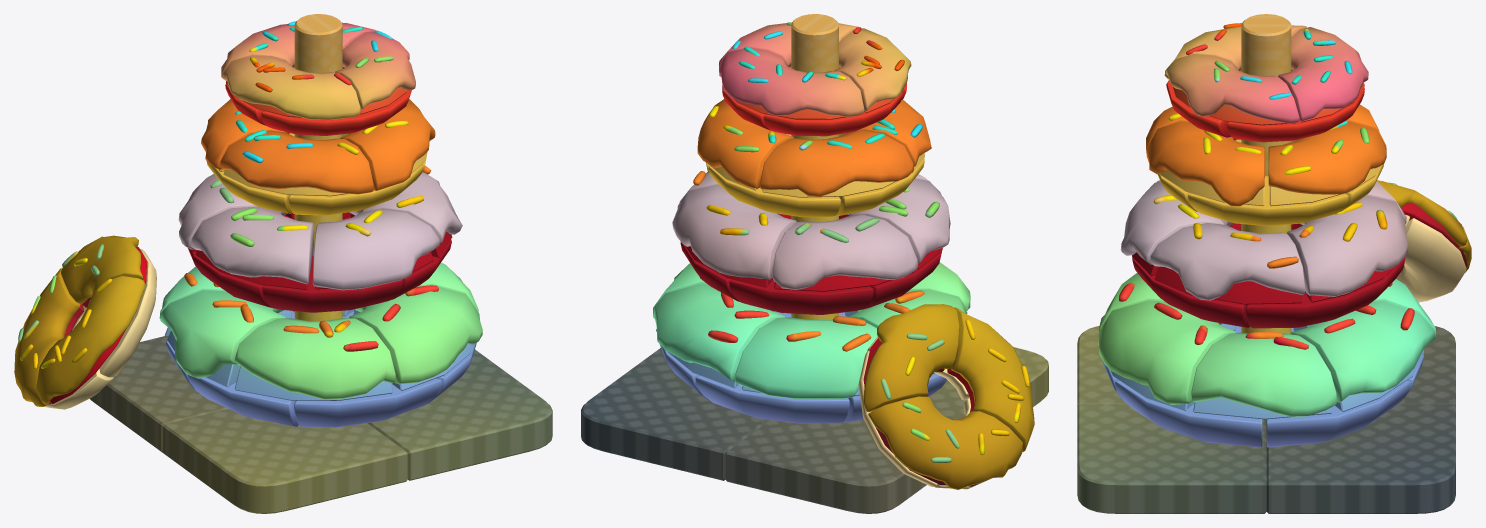
The picture shows the model from 3 angles, left to right: view 1: azimuth 30°, elevation 25°; view 2: azimuth 150°, elevation 25°; view 3: azimuth 270°, elevation 25°; orthographic projection. The views are drawn at different scales.
Parts seen in each view (by area): view 1: Cube_L5_4, Cube_L5, Cube_L3_7, Cube_L3_4, Cube_L2_4, Cube_L1_11, Cube_L2_8, Cube_L5_3, Cube_L3_11, Cube_L4_4, Cube_L1_5, Cube_L1_1 (+20 smaller); view 2: Cube_L5_1, Cube_L5_3, Cube_L3_8, Cube_L4_3, Cube_L2_7, Cube_L1_12, Cube_L2_3, Cube_L3_3, Cube_L4, Cube_L1_2, Cube_L4_4, Cube_L1_8 (+20 smaller); view 3: Cube_L5_1, Cube_L5, Cube_L3, Cube_L2, Cube_L3_4, Cube_L3_3, Cube_L2_3, Cube_L1_8, Cube_L1_7, Cube_L1_1, Cube_L1_2, Cube_L5_2 (+18 smaller).
Part boxes in pixels (x1=…): Cube_L5_4: x1=163, y1=409, x2=407, y2=513; Cube_L5: x1=367, y1=349, x2=552, y2=480; Cube_L3_7: x1=234, y1=318, x2=395, y2=400; Cube_L3_4: x1=349, y1=285, x2=482, y2=390; Cube_L2_4: x1=312, y1=209, x2=439, y2=290; Cube_L1_11: x1=220, y1=130, x2=373, y2=196; Cube_L2_8: x1=191, y1=206, x2=314, y2=289; Cube_L5_3: x1=90, y1=336, x2=227, y2=452; Cube_L3_11: x1=160, y1=290, x2=285, y2=386; Cube_L4_4: x1=36, y1=276, x2=144, y2=404; Cube_L1_5: x1=222, y1=55, x2=360, y2=120; Cube_L1_1: x1=335, y1=30, x2=415, y2=114; Cube_L5_1: x1=581, y1=349, x2=770, y2=480; Cube_L5_3: x1=725, y1=420, x2=926, y2=513; Cube_L3_8: x1=735, y1=316, x2=877, y2=398; Cube_L4_3: x1=868, y1=396, x2=1022, y2=489; Cube_L2_7: x1=772, y1=215, x2=918, y2=291; Cube_L1_12: x1=760, y1=130, x2=913, y2=197; Cube_L2_3: x1=672, y1=185, x2=796, y2=287; Cube_L3_3: x1=653, y1=283, x2=784, y2=387; Cube_L4: x1=863, y1=304, x2=959, y2=412; Cube_L1_2: x1=719, y1=46, x2=864, y2=119; Cube_L4_4: x1=947, y1=307, x2=1034, y2=452; Cube_L1_8: x1=697, y1=99, x2=793, y2=190; Cube_L5_1: x1=1266, y1=404, x2=1455, y2=513; Cube_L5: x1=1077, y1=404, x2=1266, y2=513; Cube_L3: x1=1191, y1=331, x2=1336, y2=419; Cube_L2: x1=1150, y1=222, x2=1305, y2=304; Cube_L3_4: x1=1098, y1=300, x2=1235, y2=410; Cube_L3_3: x1=1291, y1=301, x2=1435, y2=411; Cube_L2_3: x1=1286, y1=195, x2=1407, y2=302; Cube_L1_8: x1=1268, y1=120, x2=1386, y2=206; Cube_L1_7: x1=1146, y1=121, x2=1264, y2=206; Cube_L1_1: x1=1165, y1=54, x2=1299, y2=125; Cube_L1_2: x1=1278, y1=27, x2=1368, y2=122; Cube_L5_2: x1=1241, y1=14, x2=1291, y2=334.
Size of the model in its own units: 14.75 by 13.86 by 11.92.
